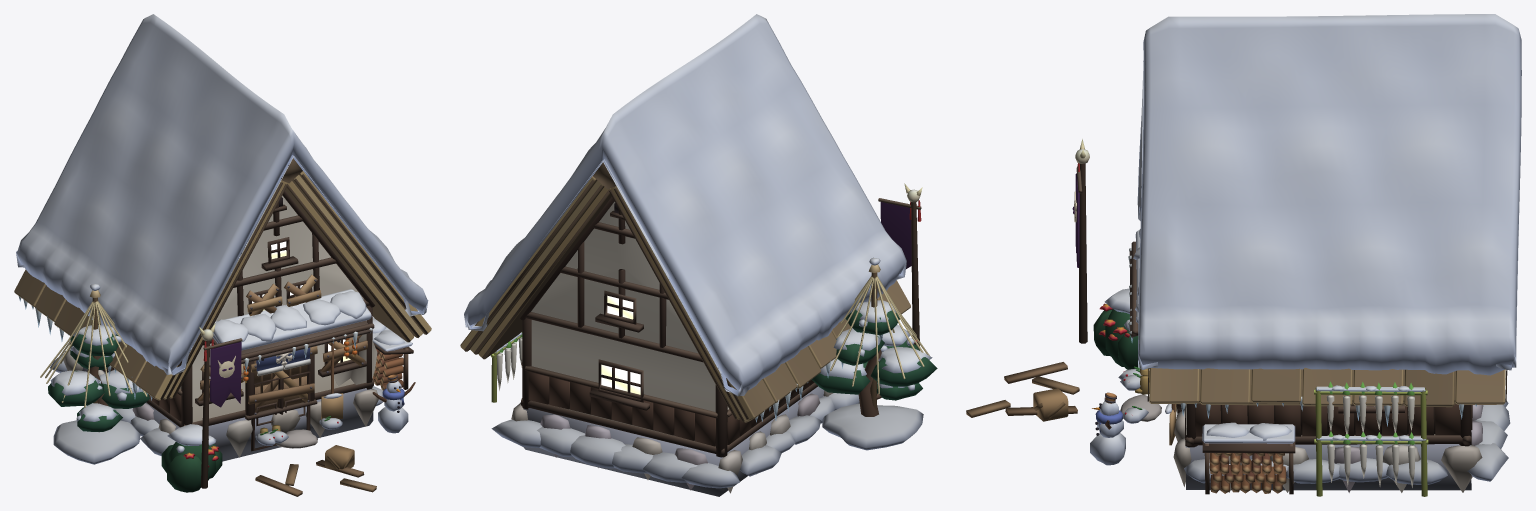
The model's file is zv-onsen-elder.glb.
3 views of the same model, side by side, from view 1: azimuth 30°, elevation 25°; view 2: azimuth 150°, elevation 25°; view 3: azimuth 270°, elevation 25° (orthographic). The views are drawn at different scales.
Visible parts, largest first — view 1: zv-onsen-elder, siege, saved; view 2: zv-onsen-elder, siege, window_glow; view 3: zv-onsen-elder, siege, saved.
Part boxes in pixels (box(x1,y1,x2,y2)): zv-onsen-elder: box(14, 14, 431, 492); siege: box(198, 274, 377, 496); saved: box(255, 347, 415, 445); zv-onsen-elder: box(460, 14, 937, 496); siege: box(878, 183, 922, 349); window_glow: box(601, 295, 640, 394); zv-onsen-elder: box(1093, 14, 1521, 496); siege: box(966, 139, 1186, 434); saved: box(1090, 366, 1148, 465).
Size of the model in its own units: 5.59 by 5.31 by 6.35.
